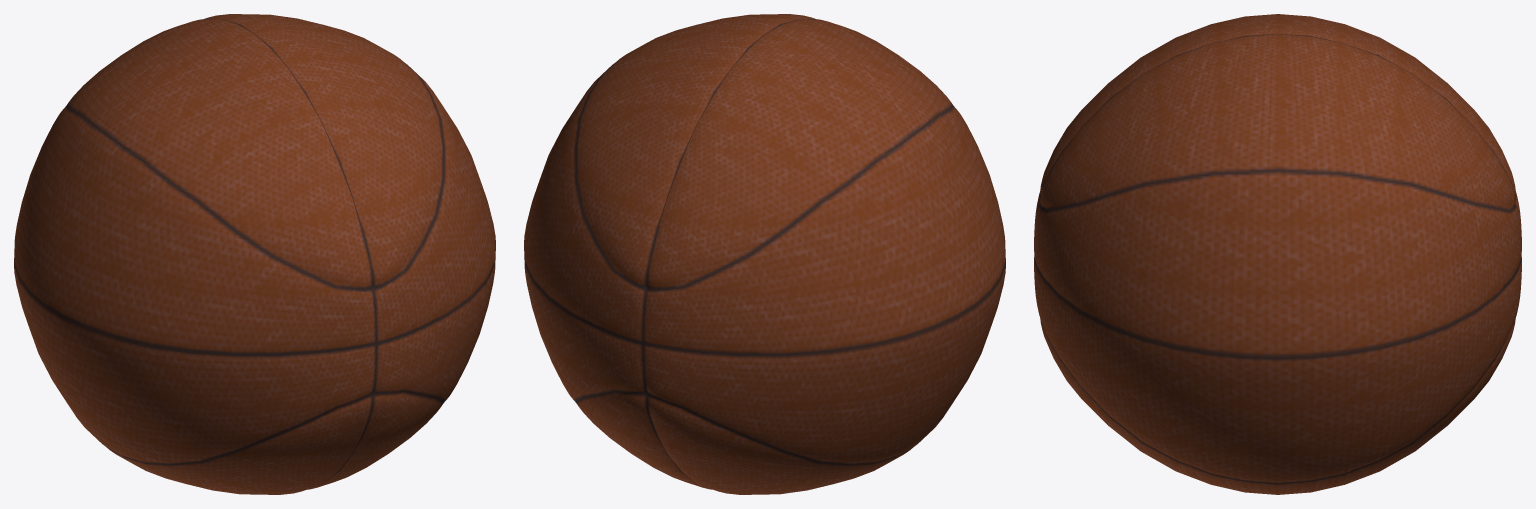
File: basketball-game-optimized-v01.glb
The picture shows the model from 3 angles, left to right: view 1: azimuth 30°, elevation 25°; view 2: azimuth 150°, elevation 25°; view 3: azimuth 270°, elevation 25°; orthographic projection.
Visible parts, largest first — view 1: basketball-game-v01; view 2: basketball-game-v01; view 3: basketball-game-v01.
Boxes of the visible parts, left/top/right/bottom form: basketball-game-v01: left=14, top=14, right=495, bottom=494; basketball-game-v01: left=524, top=14, right=1005, bottom=494; basketball-game-v01: left=1034, top=14, right=1521, bottom=494.
Size of the model in its own units: 0.24 by 0.24 by 0.24.
1 material, 1 textured.
